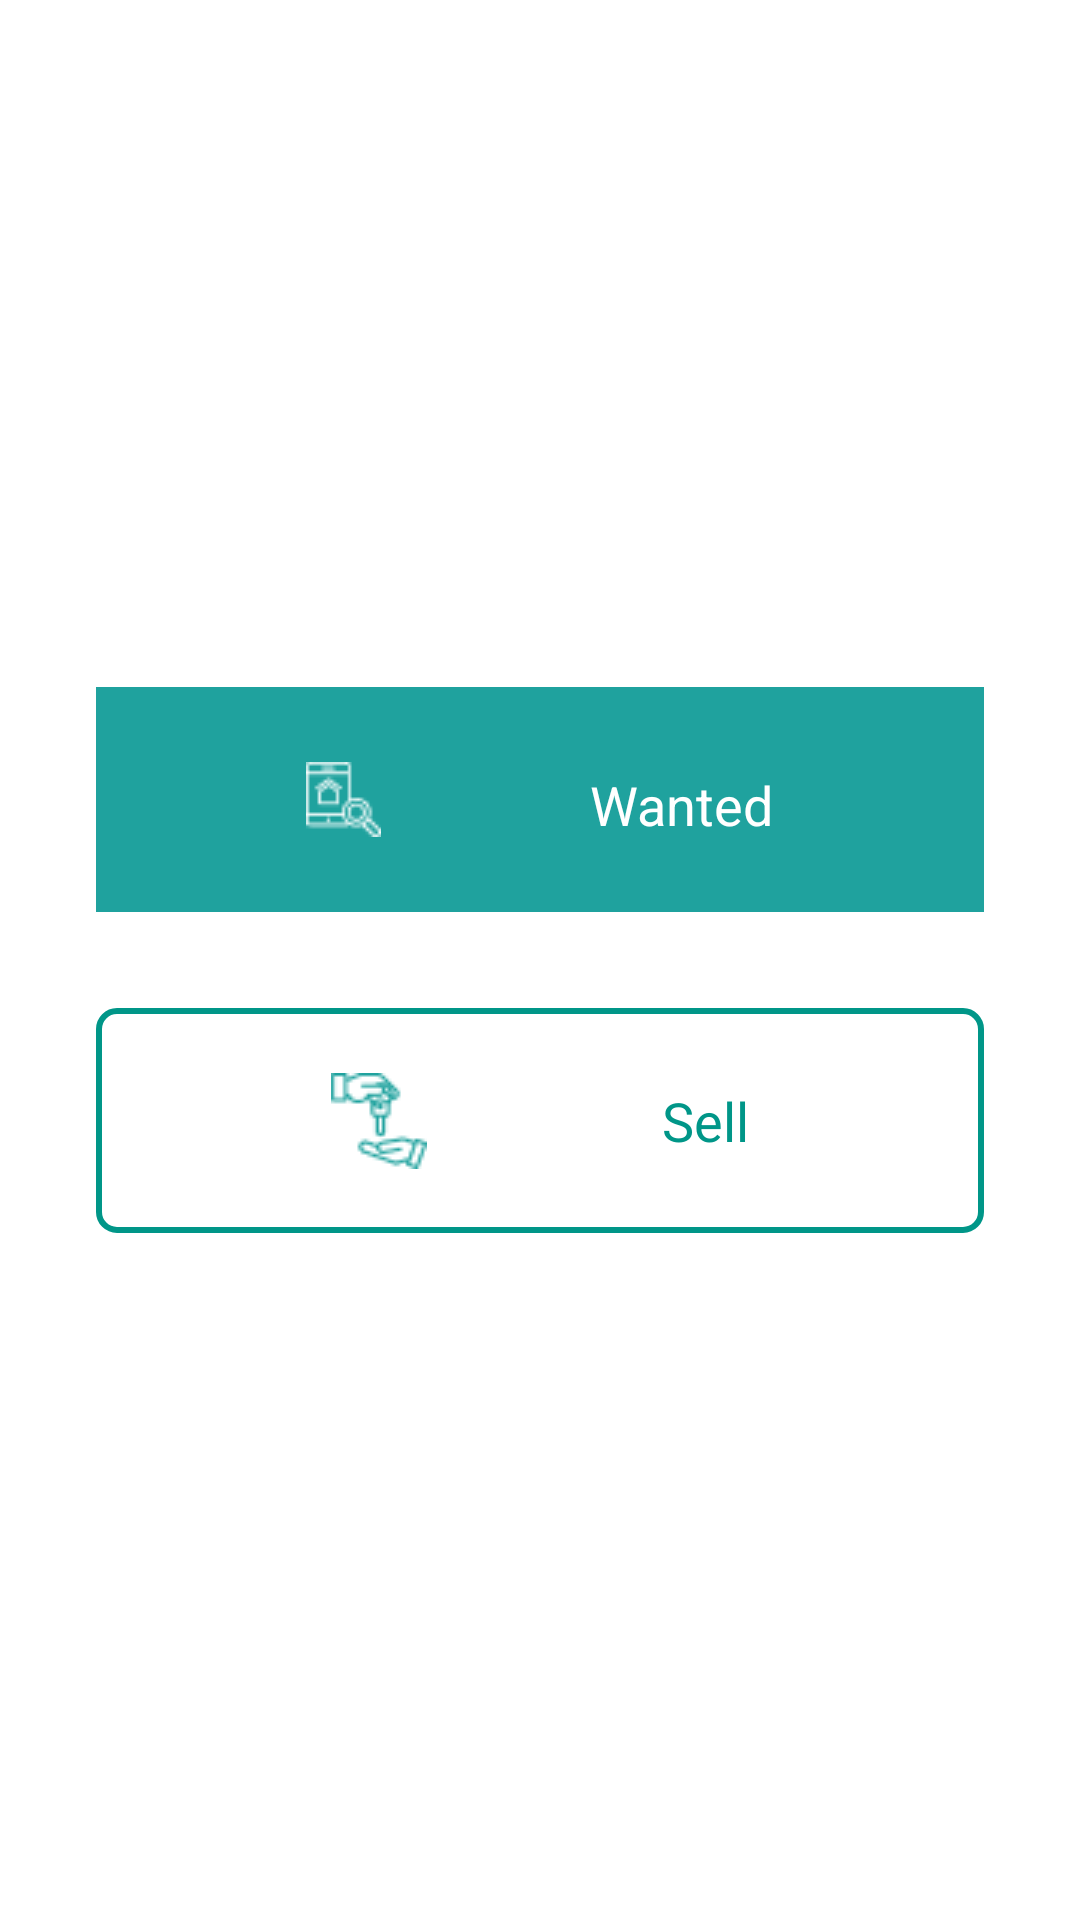

Screen size 1080x1920. Icon name, then its center in pixels as (x,y):
sellericon: (379,1121)
